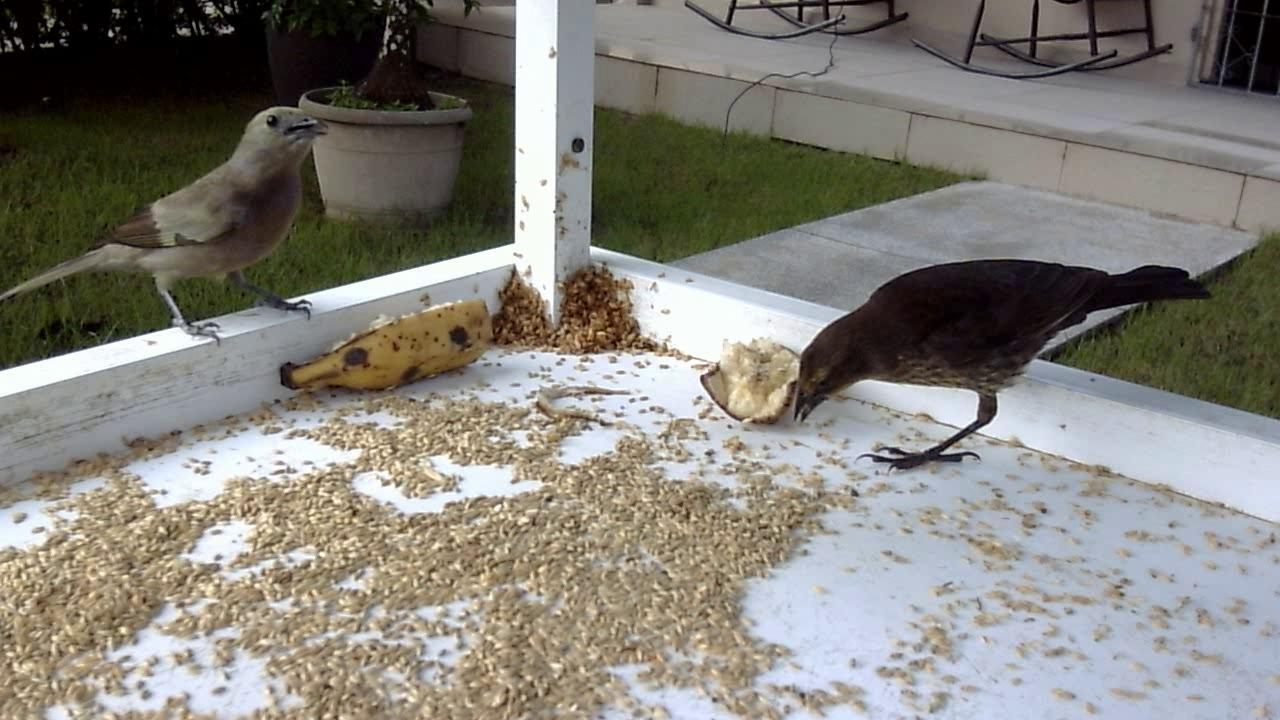chupim: (780, 241, 1213, 494)
sanhaco_do_coqueiro: (14, 99, 332, 359)
